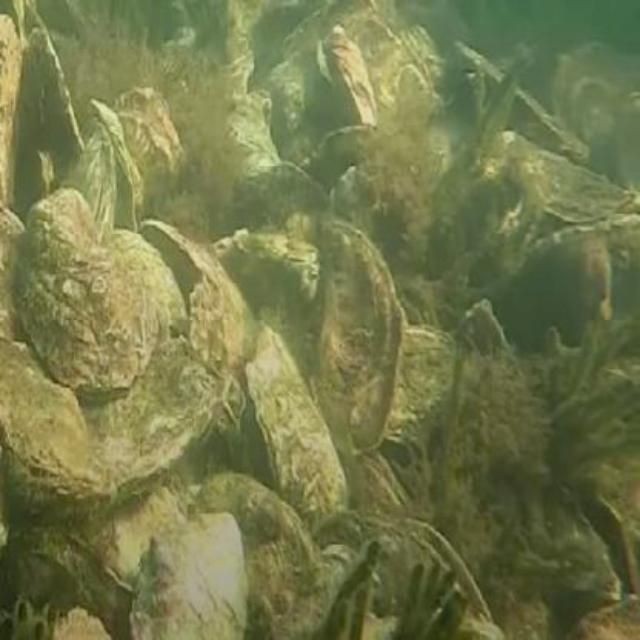Oyster-Closed: (0, 230, 218, 499), (19, 192, 161, 391), (306, 208, 402, 446), (131, 216, 263, 385), (248, 324, 352, 521), (195, 477, 320, 622), (134, 507, 249, 638), (498, 132, 631, 219), (114, 90, 182, 219), (70, 117, 118, 234)
Oyster-Open: (332, 515, 501, 638), (563, 477, 638, 616)
